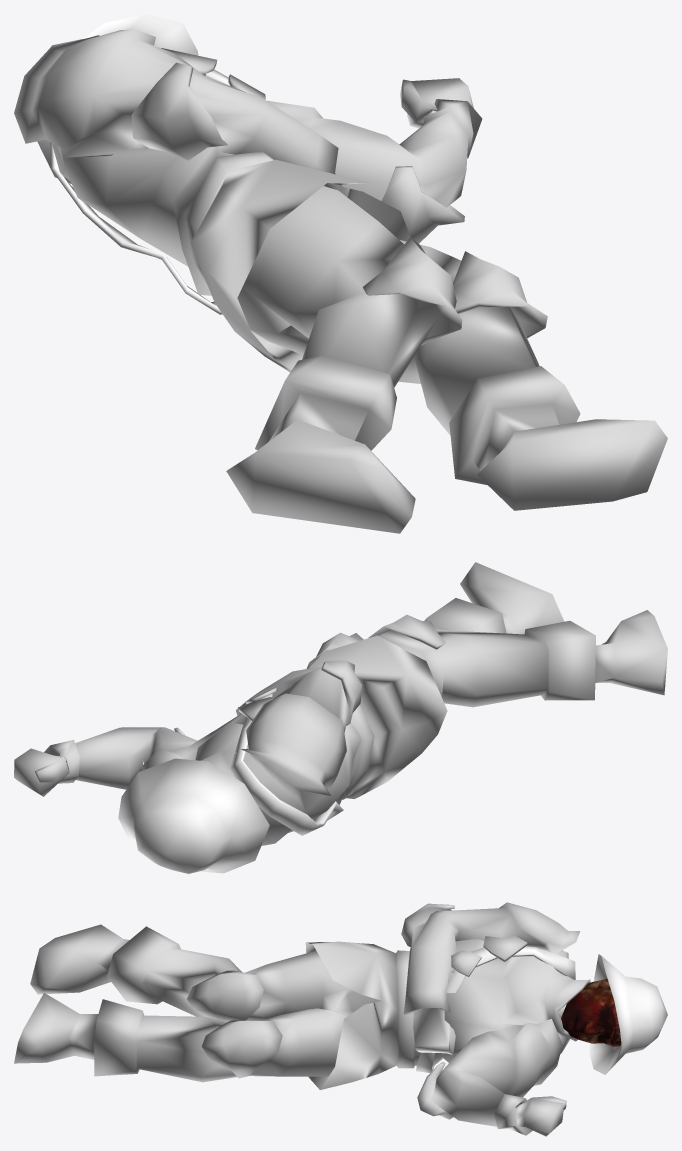
The model's file is KM_CITYONFIRE_CORPSE_MILITIA_09.glb.
The picture shows the model from 3 angles, top to bottom: view 1: azimuth 30°, elevation 25°; view 2: azimuth 150°, elevation 25°; view 3: azimuth 270°, elevation 25°; orthographic projection. The views are drawn at different scales.
Parts seen in each view (by area): view 1: Mesh; view 2: Mesh; view 3: Mesh.
Part boxes in pixels (x1,y1,x2,y2): Mesh: [14, 14, 667, 533]; Mesh: [14, 562, 667, 873]; Mesh: [14, 902, 667, 1136].
Bounding box in the file's own units: 1.22 × 0.5148 × 1.92.
4 materials, 1 textured.
